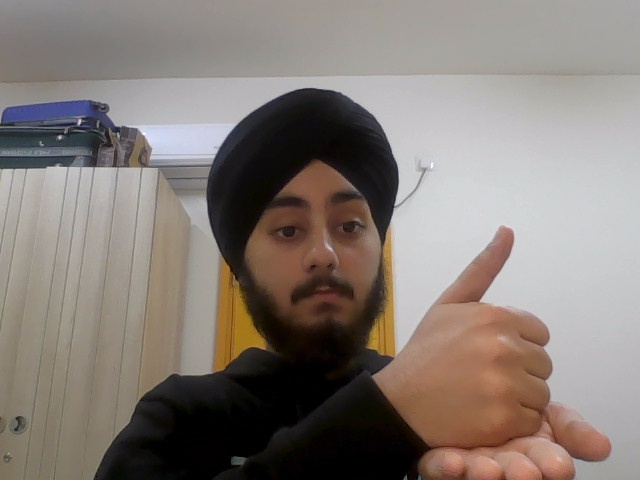Help: (408, 208, 622, 480)
